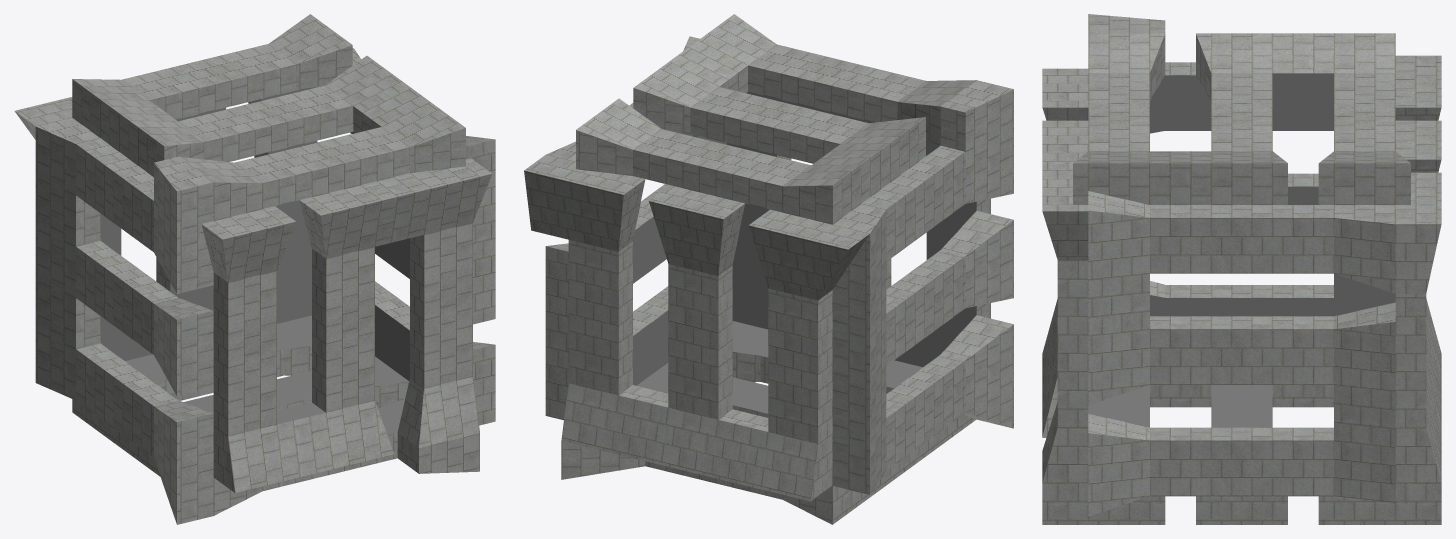
File: swcube2textured.gltf
The picture shows the model from 3 angles, left to right: view 1: azimuth 30°, elevation 25°; view 2: azimuth 150°, elevation 25°; view 3: azimuth 270°, elevation 25°; orthographic projection. The views are drawn at different scales.
Visible parts, largest first — view 1: SW (×3); view 2: SW (×3); view 3: SW (×3).
Part boxes in pixels (x1,y1,x2,y2): SW (×3): [14, 14, 495, 524]; SW (×3): [524, 14, 1013, 524]; SW (×3): [1042, 14, 1441, 524].
Bounding box in the file's own units: 3.96 × 3.96 × 3.96.
Materials: 2 (1 with a texture image).
